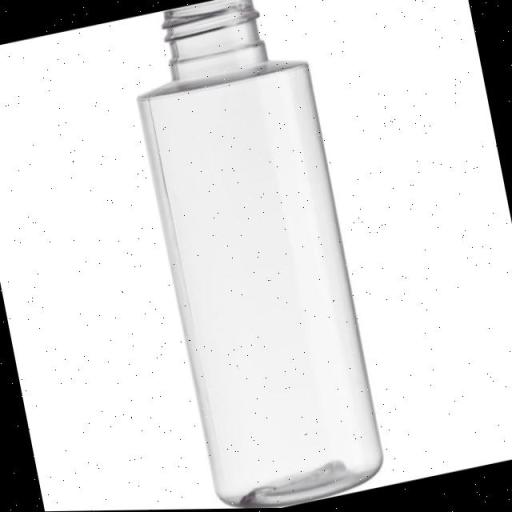plastic: (120, 0, 387, 510)
